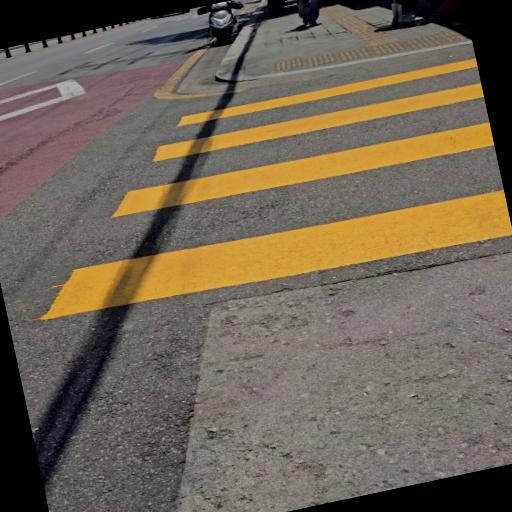yellow-crosswalk: (0, 49, 512, 354)
